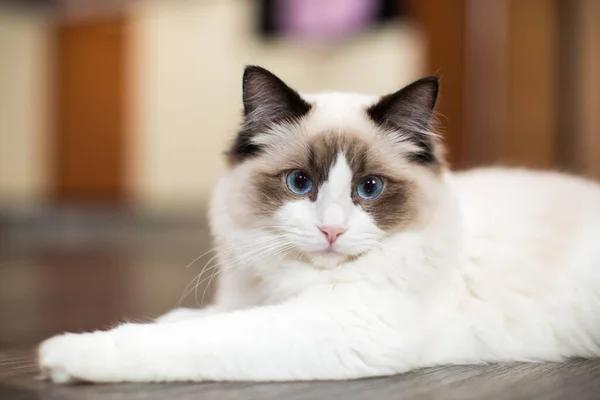ragdoll: (226, 53, 452, 285)
